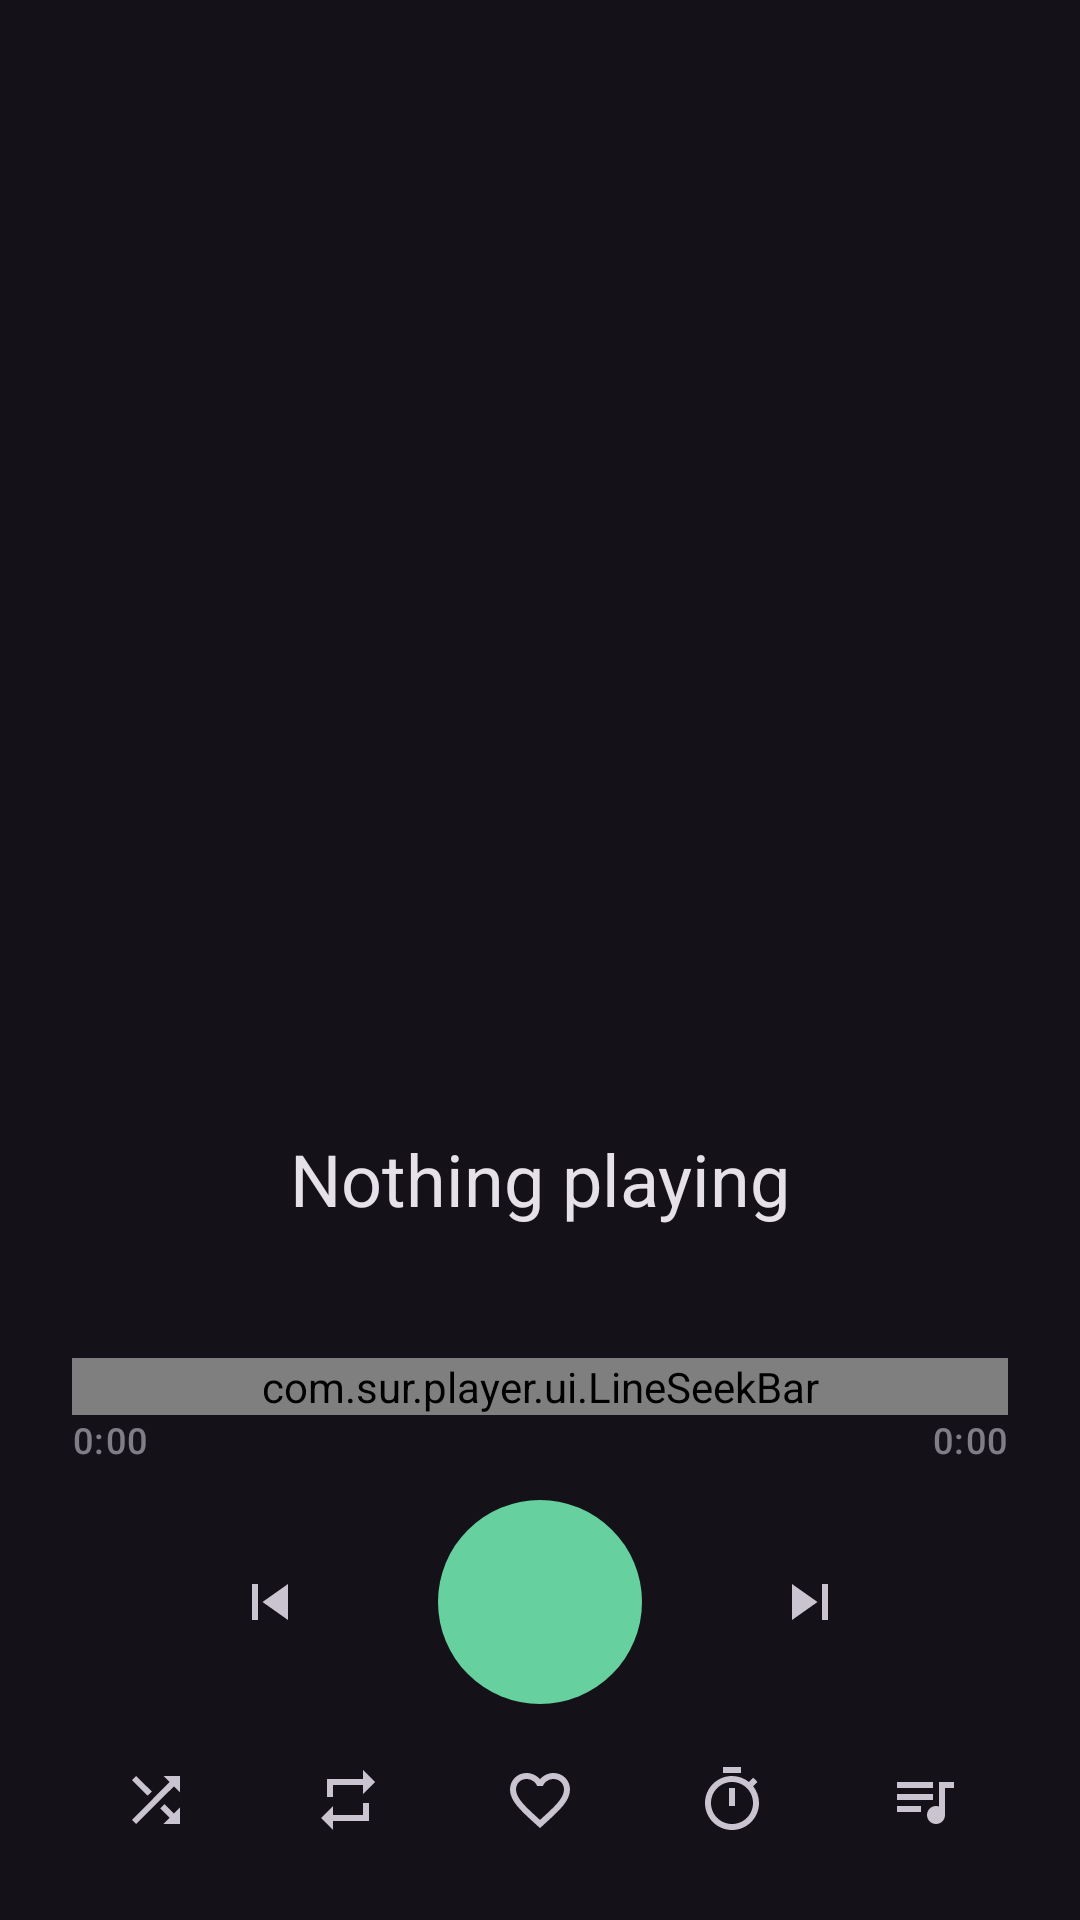

Icon bounding boxes for this 1080 x 1920 phone screenshot, format box=[x1, y1, x2, y2]:
Favourite: box=[510, 1773, 570, 1828]
Next: box=[792, 1584, 828, 1620]
prev: box=[252, 1584, 288, 1620]
Repeat: box=[321, 1770, 375, 1830]
Shuffle: box=[132, 1776, 180, 1824]
Sleep timer: box=[705, 1767, 759, 1830]
Up next: box=[897, 1782, 954, 1824]
